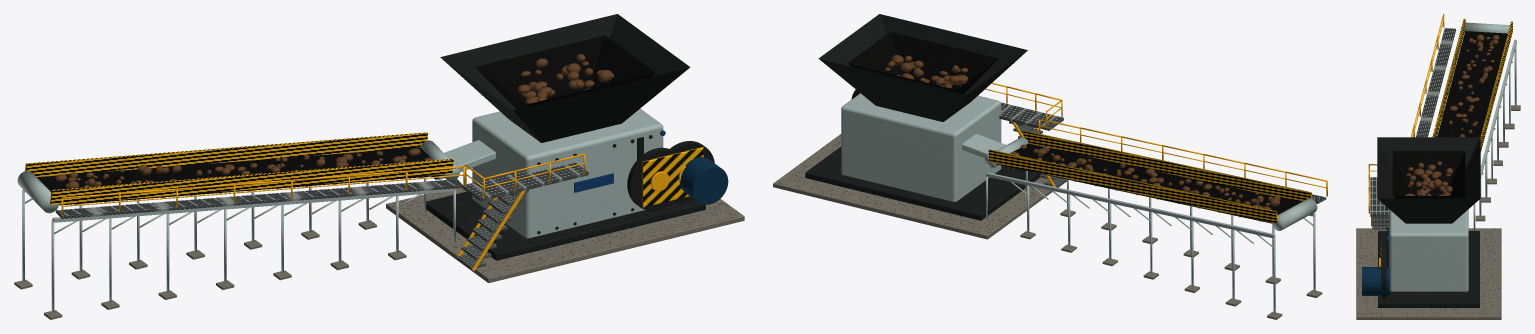
The model's file is level2_ore_crusher_industrial_uv.fbx.
3 views of the same model, side by side, from view 1: azimuth 30°, elevation 25°; view 2: azimuth 150°, elevation 25°; view 3: azimuth 270°, elevation 25° (orthographic). The views are drawn at different scales.
Parts seen in each view (by area): view 1: L2_V2_Rounded_Primary_Crusher_Body, L2_V2_SuperJumbo_Flared_Ore_Hopper, L2_V2_Jumbo_Concrete_Service_Pad, L2_V2_Inner_Black_Hopper_Throat, L2_V2_Left_Tall_Yellow_Side_Skirt, L2_V2_Right_Tall_Yellow_Side_Skirt, L2_V2_Jumbo_Black_Skid_Base, L2_V2_Wide_Inclined_Rubber_Ore_Belt, L2_V2_Wide_Conveyor_Maintenance_Catwalk, L2_V2_Jumbo_Service_Platform_Grating, L2_V2_Curved_Style_Hazard_Belt_Guard, L2_V2_Jumbo_Drive_Motor_Smooth (+4 smaller); view 2: L2_V2_Rounded_Primary_Crusher_Body, L2_V2_SuperJumbo_Flared_Ore_Hopper, L2_V2_Jumbo_Concrete_Service_Pad, L2_V2_Jumbo_Black_Skid_Base, L2_V2_Inner_Black_Hopper_Throat, L2_V2_Right_Tall_Yellow_Side_Skirt, L2_V2_Left_Tall_Yellow_Side_Skirt, L2_V2_Wide_Inclined_Rubber_Ore_Belt, L2_V2_Right_Deep_Main_Truss, L2_V2_Jumbo_Service_Platform_Grating, L2_V2_Smooth_Head_Pulley, L2_V2_Heavy_Discharge_Chute_To_Belt; view 3: L2_V2_Rounded_Primary_Crusher_Body, L2_V2_SuperJumbo_Flared_Ore_Hopper, L2_V2_Jumbo_Concrete_Service_Pad, L2_V2_Wide_Inclined_Rubber_Ore_Belt, L2_V2_Inner_Black_Hopper_Throat, L2_V2_Jumbo_Black_Skid_Base, L2_V2_Wide_Conveyor_Maintenance_Catwalk, L2_V2_Jumbo_Drive_Motor_Smooth, L2_V2_Right_Tall_Yellow_Side_Skirt, L2_V2_Left_Tall_Yellow_Side_Skirt, L2_V2_Right_Deep_Main_Truss, L2_V2_Jumbo_Service_Platform_Grating (+3 smaller).
Boxes of the visible parts, left/top/right/bottom form: L2_V2_Rounded_Primary_Crusher_Body: left=472, top=108, right=663, bottom=238; L2_V2_SuperJumbo_Flared_Ore_Hopper: left=440, top=14, right=690, bottom=142; L2_V2_Jumbo_Concrete_Service_Pad: left=386, top=183, right=744, bottom=282; L2_V2_Inner_Black_Hopper_Throat: left=475, top=35, right=655, bottom=109; L2_V2_Left_Tall_Yellow_Side_Skirt: left=50, top=159, right=453, bottom=204; L2_V2_Right_Tall_Yellow_Side_Skirt: left=25, top=132, right=428, bottom=176; L2_V2_Jumbo_Black_Skid_Base: left=426, top=191, right=705, bottom=260; L2_V2_Wide_Inclined_Rubber_Ore_Belt: left=37, top=147, right=444, bottom=205; L2_V2_Wide_Conveyor_Maintenance_Catwalk: left=55, top=179, right=463, bottom=218; L2_V2_Jumbo_Service_Platform_Grating: left=463, top=162, right=588, bottom=201; L2_V2_Curved_Style_Hazard_Belt_Guard: left=642, top=147, right=703, bottom=207; L2_V2_Jumbo_Drive_Motor_Smooth: left=679, top=157, right=728, bottom=204; L2_V2_Rounded_Primary_Crusher_Body: left=841, top=93, right=1001, bottom=201; L2_V2_SuperJumbo_Flared_Ore_Hopper: left=818, top=14, right=1027, bottom=121; L2_V2_Jumbo_Concrete_Service_Pad: left=773, top=134, right=1066, bottom=239; L2_V2_Jumbo_Black_Skid_Base: left=805, top=146, right=1040, bottom=220; L2_V2_Inner_Black_Hopper_Throat: left=847, top=32, right=998, bottom=93; L2_V2_Right_Tall_Yellow_Side_Skirt: left=988, top=149, right=1278, bottom=223; L2_V2_Left_Tall_Yellow_Side_Skirt: left=1023, top=130, right=1312, bottom=202; L2_V2_Wide_Inclined_Rubber_Ore_Belt: left=996, top=143, right=1300, bottom=223; L2_V2_Right_Deep_Main_Truss: left=986, top=172, right=1275, bottom=238; L2_V2_Jumbo_Service_Platform_Grating: left=999, top=102, right=1063, bottom=130; L2_V2_Smooth_Head_Pulley: left=1272, top=198, right=1317, bottom=230; L2_V2_Heavy_Discharge_Chute_To_Belt: left=962, top=133, right=1009, bottom=167; L2_V2_Rounded_Primary_Crusher_Body: left=1389, top=209, right=1468, bottom=291; L2_V2_SuperJumbo_Flared_Ore_Hopper: left=1377, top=137, right=1480, bottom=223; L2_V2_Jumbo_Concrete_Service_Pad: left=1356, top=228, right=1501, bottom=319; L2_V2_Wide_Inclined_Rubber_Ore_Belt: left=1437, top=31, right=1507, bottom=137; L2_V2_Inner_Black_Hopper_Throat: left=1392, top=151, right=1465, bottom=198; L2_V2_Jumbo_Black_Skid_Base: left=1378, top=231, right=1479, bottom=307; L2_V2_Wide_Conveyor_Maintenance_Catwalk: left=1416, top=28, right=1455, bottom=137; L2_V2_Jumbo_Drive_Motor_Smooth: left=1362, top=267, right=1389, bottom=295; L2_V2_Right_Tall_Yellow_Side_Skirt: left=1480, top=21, right=1512, bottom=152; L2_V2_Left_Tall_Yellow_Side_Skirt: left=1432, top=18, right=1465, bottom=137; L2_V2_Right_Deep_Main_Truss: left=1480, top=39, right=1516, bottom=178; L2_V2_Jumbo_Service_Platform_Grating: left=1370, top=177, right=1389, bottom=216.
Bounding box in the file's own units: 3801 × 886 × 1221.
1 material, 1 textured.
